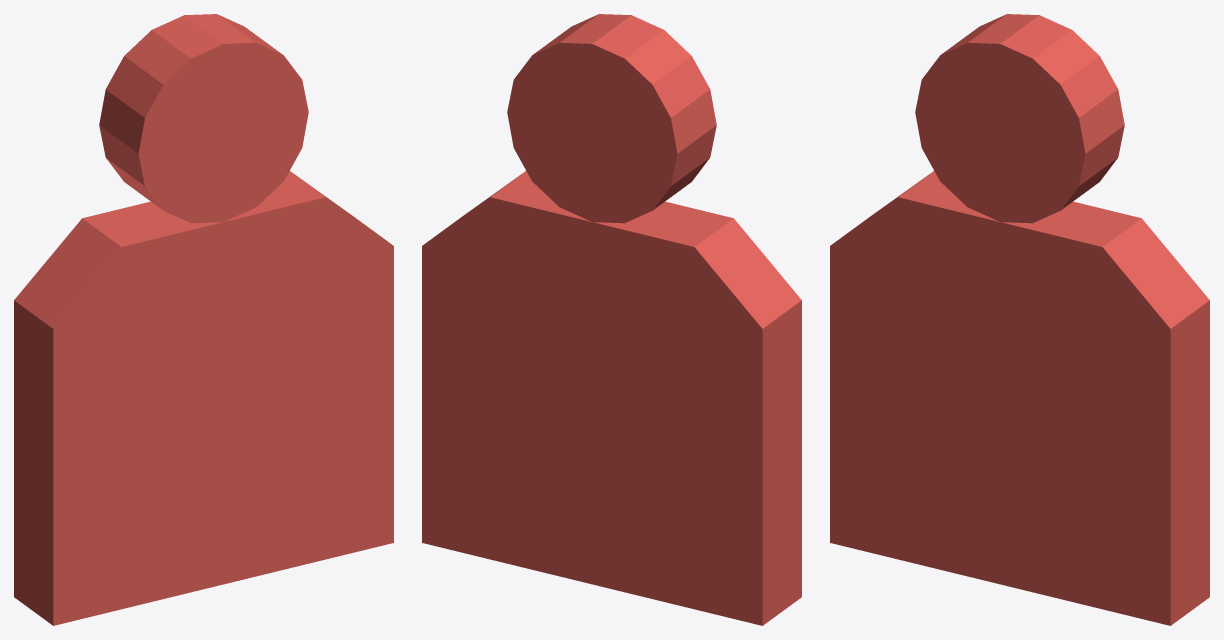
The model's file is person_target.glb.
3 renders of one model, left to right at view 1: azimuth 30°, elevation 25°; view 2: azimuth 150°, elevation 25°; view 3: azimuth 330°, elevation 25°, orthographic.
Parts seen in each view (by area): view 1: Intact, Shard_01, Shard_02, Shard_00, Shard_03, Shard_19, Shard_16, Shard_10, Shard_08, Shard_17, Shard_14, Shard_11 (+11 smaller); view 2: Intact, Shard_19, Shard_16, Shard_00, Shard_01, Shard_02, Shard_08, Shard_03, Shard_20, Shard_10, Shard_22, Shard_18 (+3 smaller); view 3: Intact, Shard_19, Shard_09, Shard_03, Shard_12, Shard_20, Shard_18, Shard_22, Shard_08, Shard_02, Shard_23, Shard_01 (+2 smaller).
Boxes of the visible parts, x1,y1,x2,y2 form: Intact: [14, 14, 393, 625]; Shard_01: [14, 244, 159, 452]; Shard_02: [14, 503, 183, 625]; Shard_00: [14, 424, 173, 549]; Shard_03: [245, 171, 393, 308]; Shard_19: [113, 43, 304, 171]; Shard_16: [155, 259, 325, 364]; Shard_10: [188, 305, 353, 391]; Shard_08: [61, 201, 249, 298]; Shard_17: [249, 317, 348, 462]; Shard_14: [110, 358, 196, 462]; Shard_11: [150, 417, 203, 511]; Intact: [422, 14, 801, 625]; Shard_19: [511, 57, 701, 171]; Shard_16: [490, 267, 663, 363]; Shard_00: [642, 424, 801, 549]; Shard_01: [671, 259, 801, 450]; Shard_02: [633, 504, 801, 624]; Shard_08: [566, 201, 754, 273]; Shard_03: [422, 171, 570, 284]; Shard_20: [573, 146, 621, 222]; Shard_10: [482, 320, 627, 391]; Shard_22: [618, 87, 709, 202]; Shard_18: [513, 97, 574, 213]; Intact: [830, 14, 1209, 625]; Shard_19: [925, 43, 1120, 158]; Shard_09: [1115, 345, 1209, 526]; Shard_03: [1026, 214, 1209, 373]; Shard_12: [1144, 499, 1209, 624]; Shard_20: [970, 154, 1019, 222]; Shard_18: [1019, 135, 1079, 222]; Shard_22: [915, 76, 973, 170]; Shard_08: [877, 171, 1025, 270]; Shard_02: [830, 481, 957, 560]; Shard_23: [1041, 107, 1124, 218]; Shard_01: [830, 193, 902, 369].
Size of the model in its own units: 0.6 by 0.91 by 0.12.
